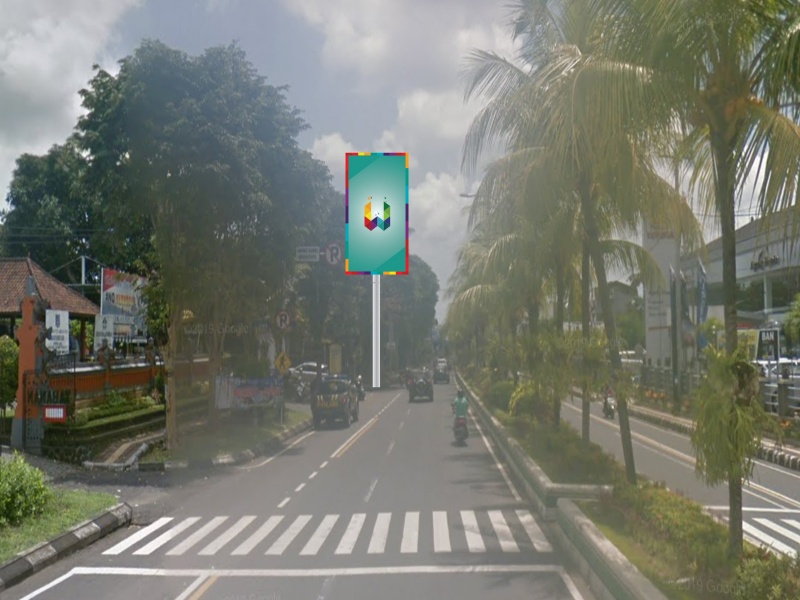zebra cross: (99, 513, 556, 558), (742, 513, 800, 565)
